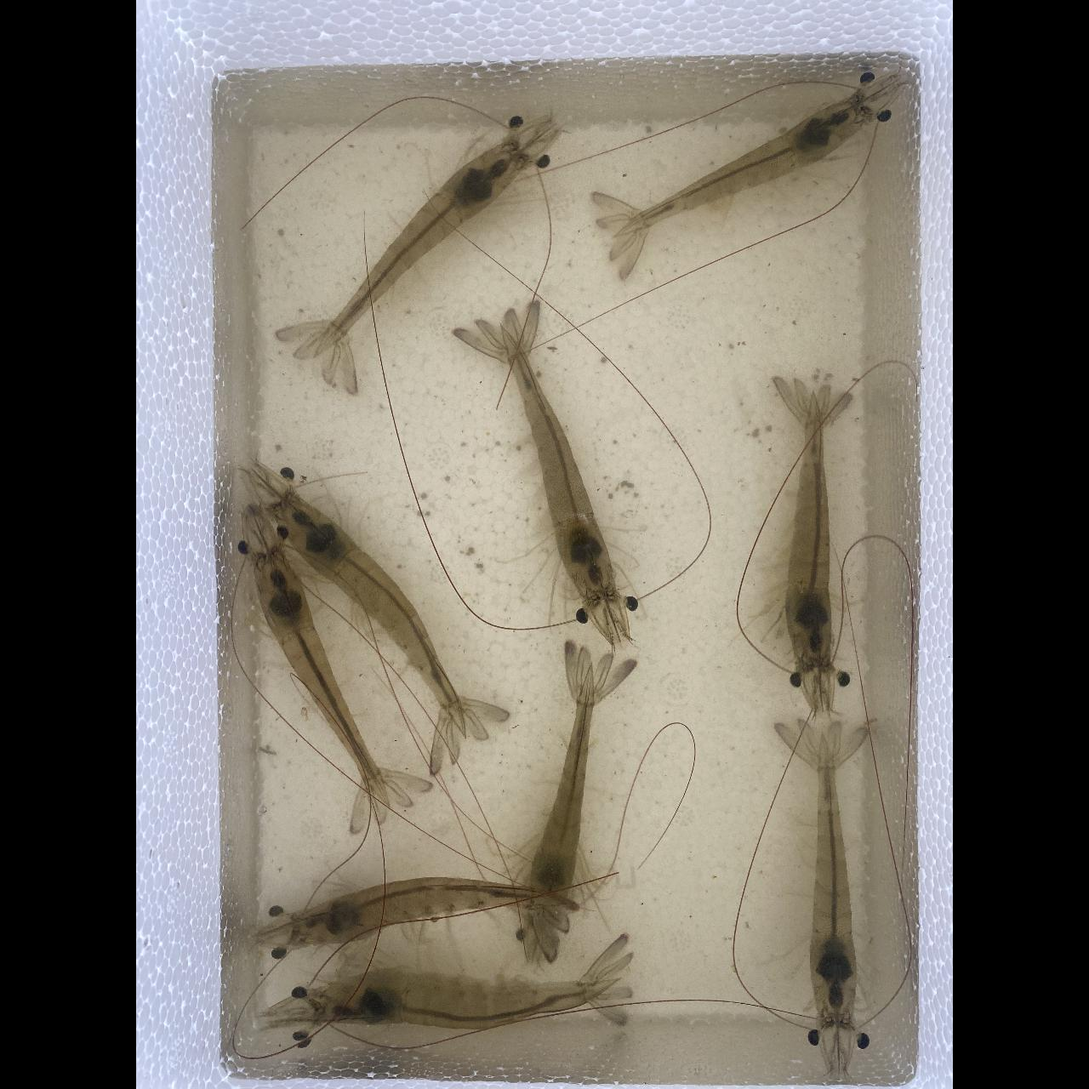top_shrimp: (272, 499, 466, 730), (313, 143, 521, 354), (254, 553, 386, 801), (619, 99, 863, 233), (505, 334, 614, 599), (291, 880, 560, 944), (315, 970, 611, 1028), (529, 674, 594, 904), (812, 738, 856, 1021), (786, 396, 830, 665)
